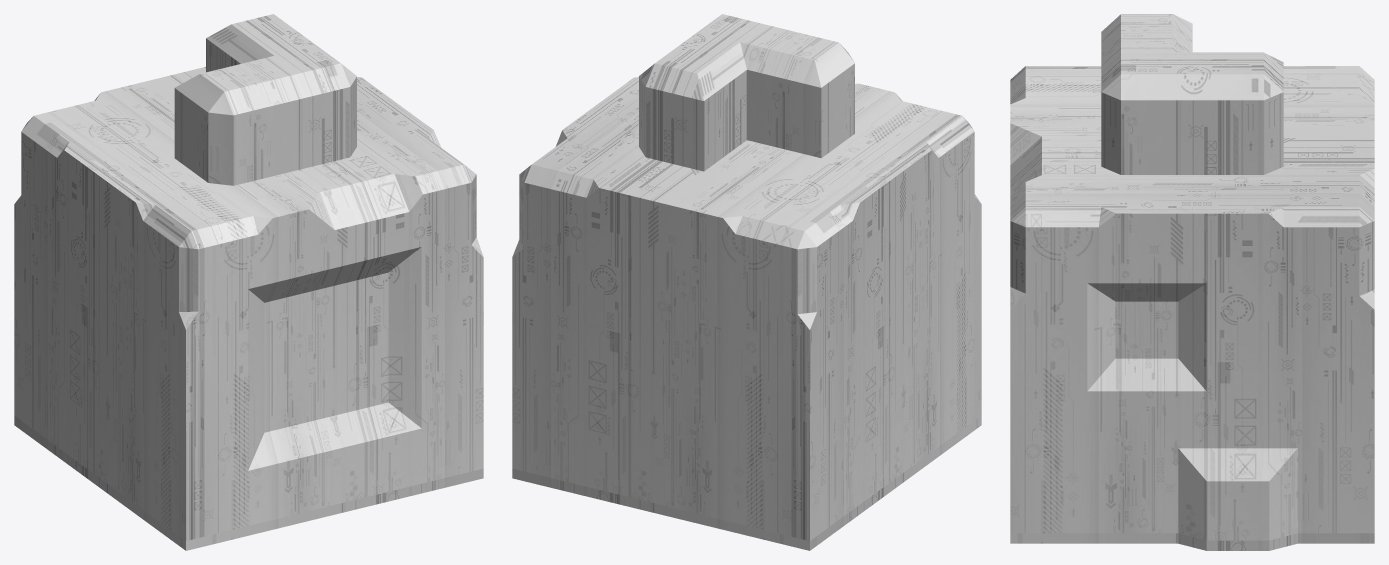
File: Block12.fbx
3 views of the same model, side by side, from view 1: azimuth 30°, elevation 25°; view 2: azimuth 150°, elevation 25°; view 3: azimuth 270°, elevation 25° (orthographic). The views are drawn at different scales.
Parts seen in each view (by area): view 1: Cube.011; view 2: Cube.011; view 3: Cube.011.
Part boxes in pixels (x1=…): Cube.011: x1=14, y1=14, x2=483, y2=550; Cube.011: x1=512, y1=14, x2=981, y2=550; Cube.011: x1=1010, y1=14, x2=1374, y2=550.
Bounding box in the file's own units: 210 × 200 × 256.
